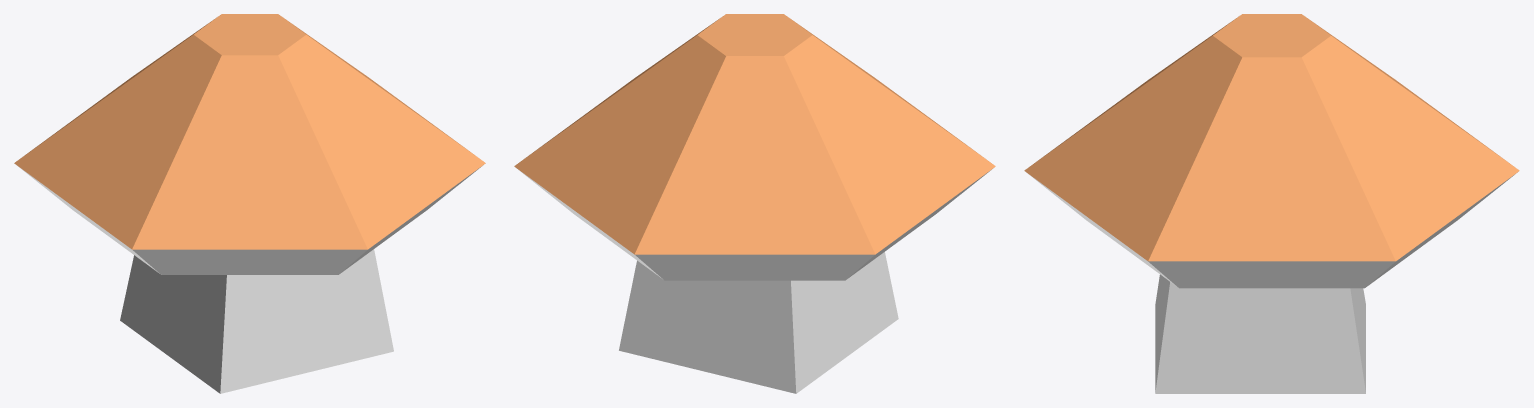
File: mushroom_tan.obj
The picture shows the model from 3 angles, left to right: view 1: azimuth 30°, elevation 25°; view 2: azimuth 150°, elevation 25°; view 3: azimuth 270°, elevation 25°; orthographic projection. The views are drawn at different scales.
Visible parts, largest first — view 1: mushroom_tan; view 2: mushroom_tan; view 3: mushroom_tan.
Part boxes in pixels (x1=…): mushroom_tan: x1=14, y1=14, x2=485, y2=393; mushroom_tan: x1=514, y1=14, x2=995, y2=393; mushroom_tan: x1=1024, y1=14, x2=1519, y2=393.
Size of the model in its own units: 0.1914 by 0.1539 by 0.221.
